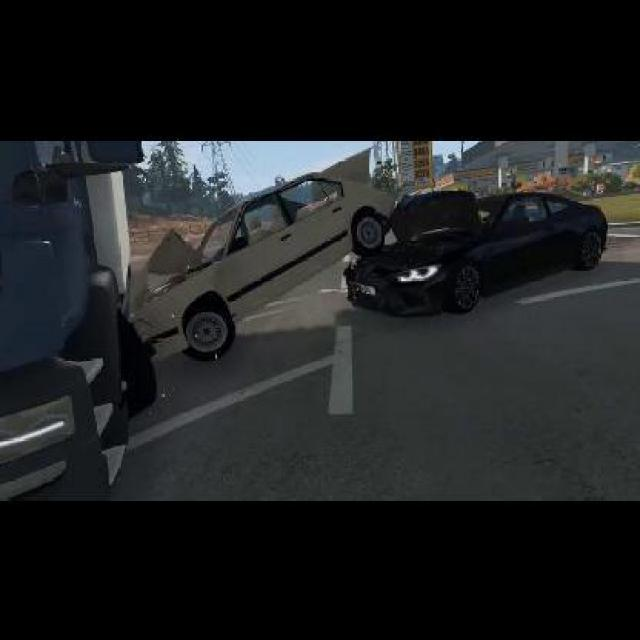accident: (0, 138, 398, 498), (115, 153, 611, 352)
